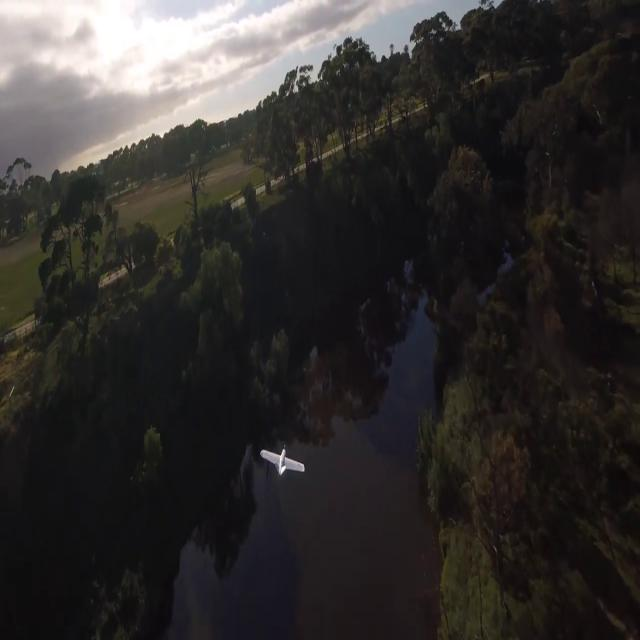iha: (258, 437, 306, 468)
